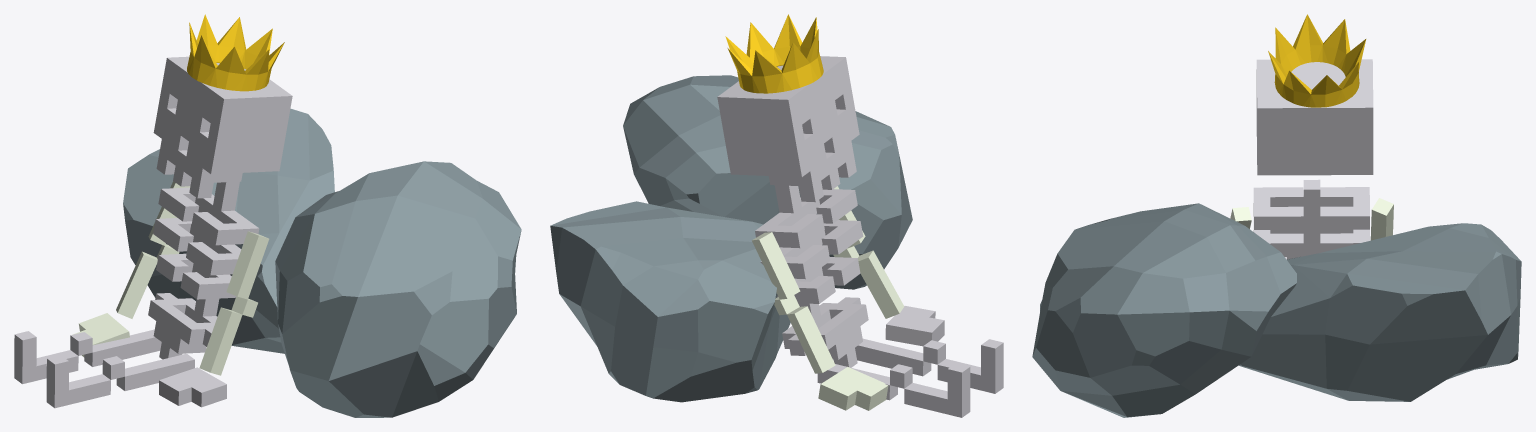
Rendered from skeletonChestOpened.obj.
3 renders of one model, left to right at view 1: azimuth 30°, elevation 25°; view 2: azimuth 150°, elevation 25°; view 3: azimuth 270°, elevation 25°, orthographic. The views are drawn at different scales.
Visible parts, largest first — view 1: rock_5_basemesh_Cube.019, rock_4_basemesh_Cube.010, skeleton.head_Plane-tex.005, skeleton.body_Plane-tex.008, skeleton.right_arm_Plane-tex.006, Cylinder_Cylinder.001, skeleton.right_leg_Plane-tex.009, skeleton.left_leg_Plane-tex.010, skeleton.left_arm_Plane-tex.007; view 2: rock_4_basemesh_Cube.010, rock_5_basemesh_Cube.019, skeleton.head_Plane-tex.005, skeleton.body_Plane-tex.008, skeleton.left_arm_Plane-tex.007, Cylinder_Cylinder.001, skeleton.right_leg_Plane-tex.009, skeleton.right_arm_Plane-tex.006, skeleton.left_leg_Plane-tex.010; view 3: rock_5_basemesh_Cube.019, rock_4_basemesh_Cube.010, skeleton.head_Plane-tex.005, skeleton.body_Plane-tex.008, Cylinder_Cylinder.001, skeleton.left_arm_Plane-tex.007.
Part boxes in pixels (bbox=[...]): rock_5_basemesh_Cube.019: bbox=[275, 161, 521, 417]; rock_4_basemesh_Cube.010: bbox=[123, 108, 334, 353]; skeleton.head_Plane-tex.005: bbox=[153, 56, 292, 198]; skeleton.body_Plane-tex.008: bbox=[148, 181, 259, 359]; skeleton.right_arm_Plane-tex.006: bbox=[159, 231, 269, 407]; Cylinder_Cylinder.001: bbox=[187, 14, 284, 91]; skeleton.right_leg_Plane-tex.009: bbox=[46, 353, 194, 408]; skeleton.left_leg_Plane-tex.010: bbox=[14, 329, 161, 384]; skeleton.left_arm_Plane-tex.007: bbox=[72, 181, 190, 357]; rock_4_basemesh_Cube.010: bbox=[550, 201, 822, 402]; rock_5_basemesh_Cube.019: bbox=[623, 75, 912, 289]; skeleton.head_Plane-tex.005: bbox=[717, 56, 859, 202]; skeleton.body_Plane-tex.008: bbox=[755, 185, 868, 367]; skeleton.left_arm_Plane-tex.007: bbox=[752, 232, 888, 410]; Cylinder_Cylinder.001: bbox=[725, 14, 823, 93]; skeleton.right_leg_Plane-tex.009: bbox=[855, 338, 1003, 393]; skeleton.right_arm_Plane-tex.006: bbox=[833, 186, 944, 346]; skeleton.left_leg_Plane-tex.010: bbox=[817, 363, 970, 417]; rock_5_basemesh_Cube.019: bbox=[1032, 203, 1296, 417]; rock_4_basemesh_Cube.010: bbox=[1239, 223, 1521, 401]; skeleton.head_Plane-tex.005: bbox=[1256, 59, 1373, 175]; skeleton.body_Plane-tex.008: bbox=[1253, 179, 1369, 259]; Cylinder_Cylinder.001: bbox=[1268, 14, 1366, 107]; skeleton.left_arm_Plane-tex.007: bbox=[1370, 198, 1393, 240].
Size of the model in its own units: 34.33 by 26.73 by 35.18.
1 material, 1 textured.
